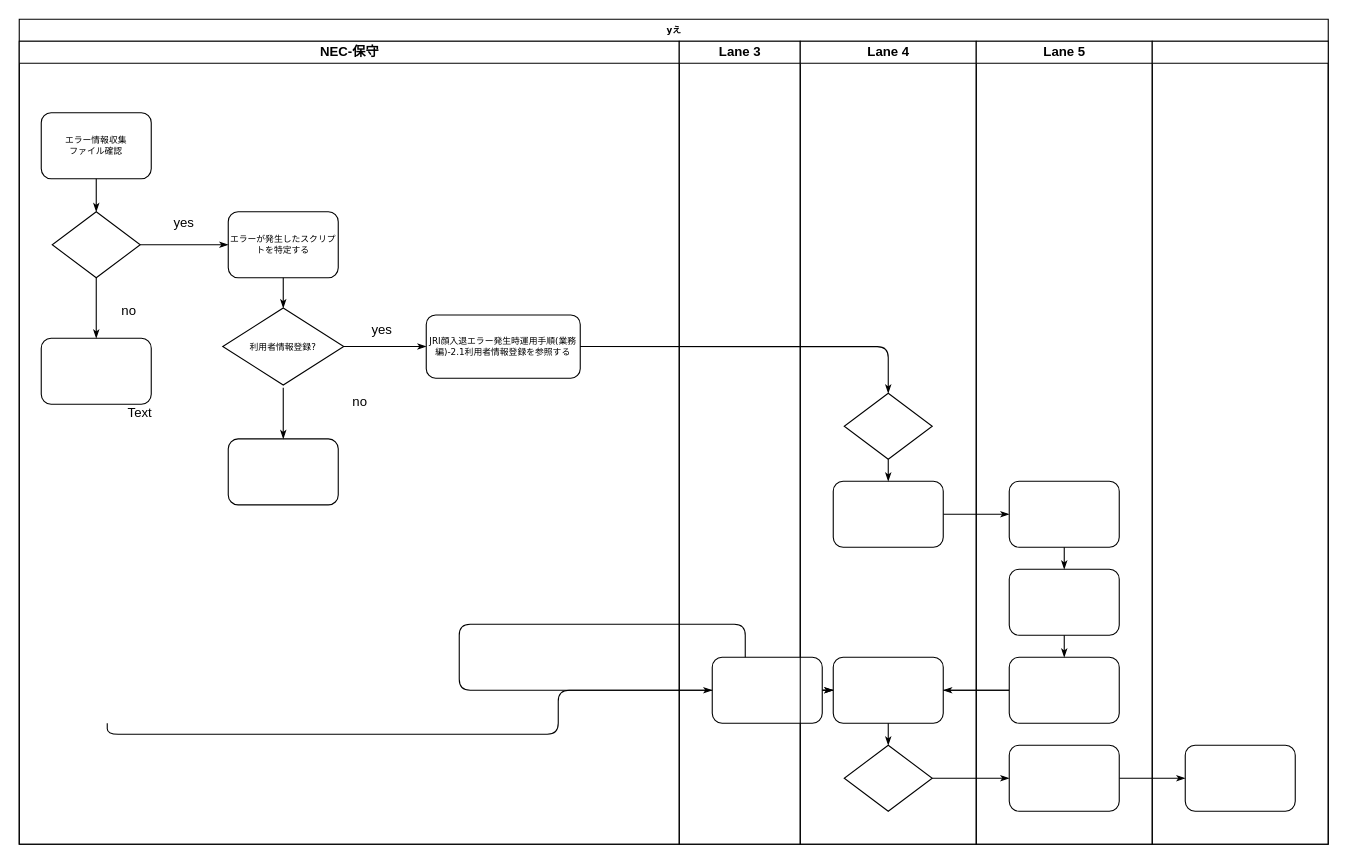
The diagram is 1348 pixels wide and 864 high, and some of its shapes have lost their labels. Each missing label, with the box of its shape:
JRI顔入退エラー発生時運用手順(業務編)-2.2利用者顔 登録を参照する: (227, 438, 338, 505)
Lane 6: (1151, 40, 1328, 844)
エラーがある?: (51, 211, 140, 278)
終了: (40, 337, 151, 404)
